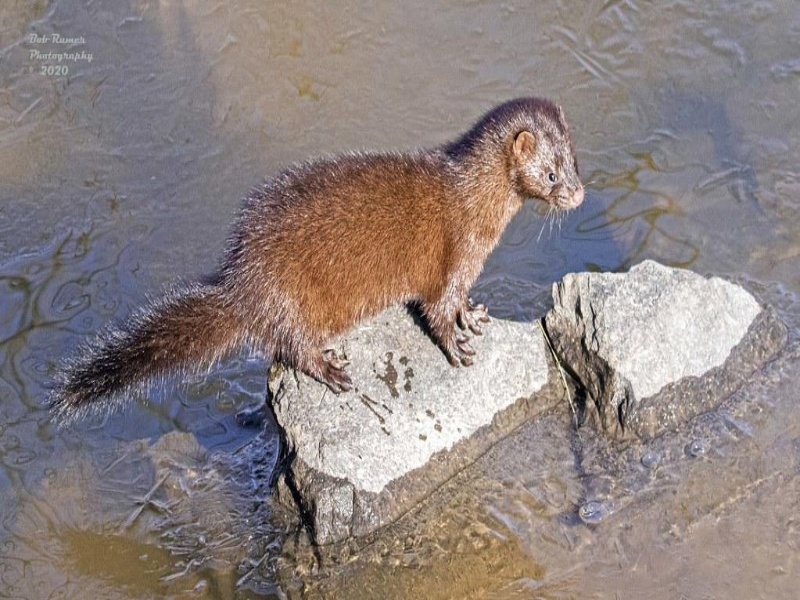minkish: (41, 92, 589, 427)
